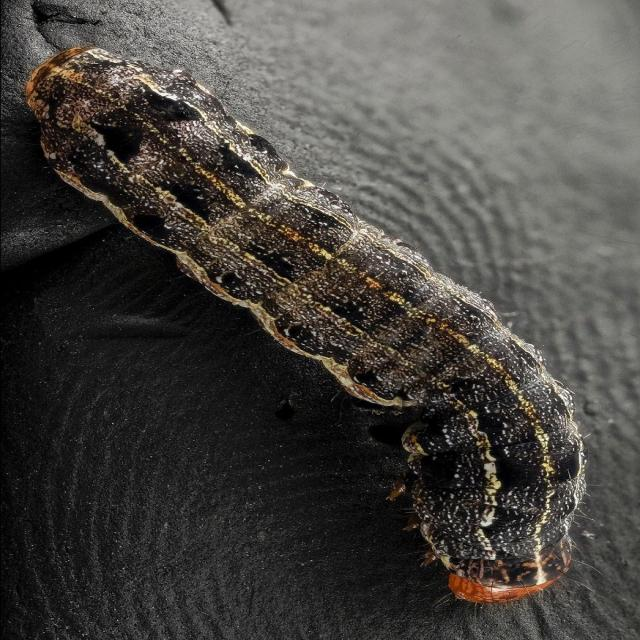army worm: (10, 46, 600, 613)
